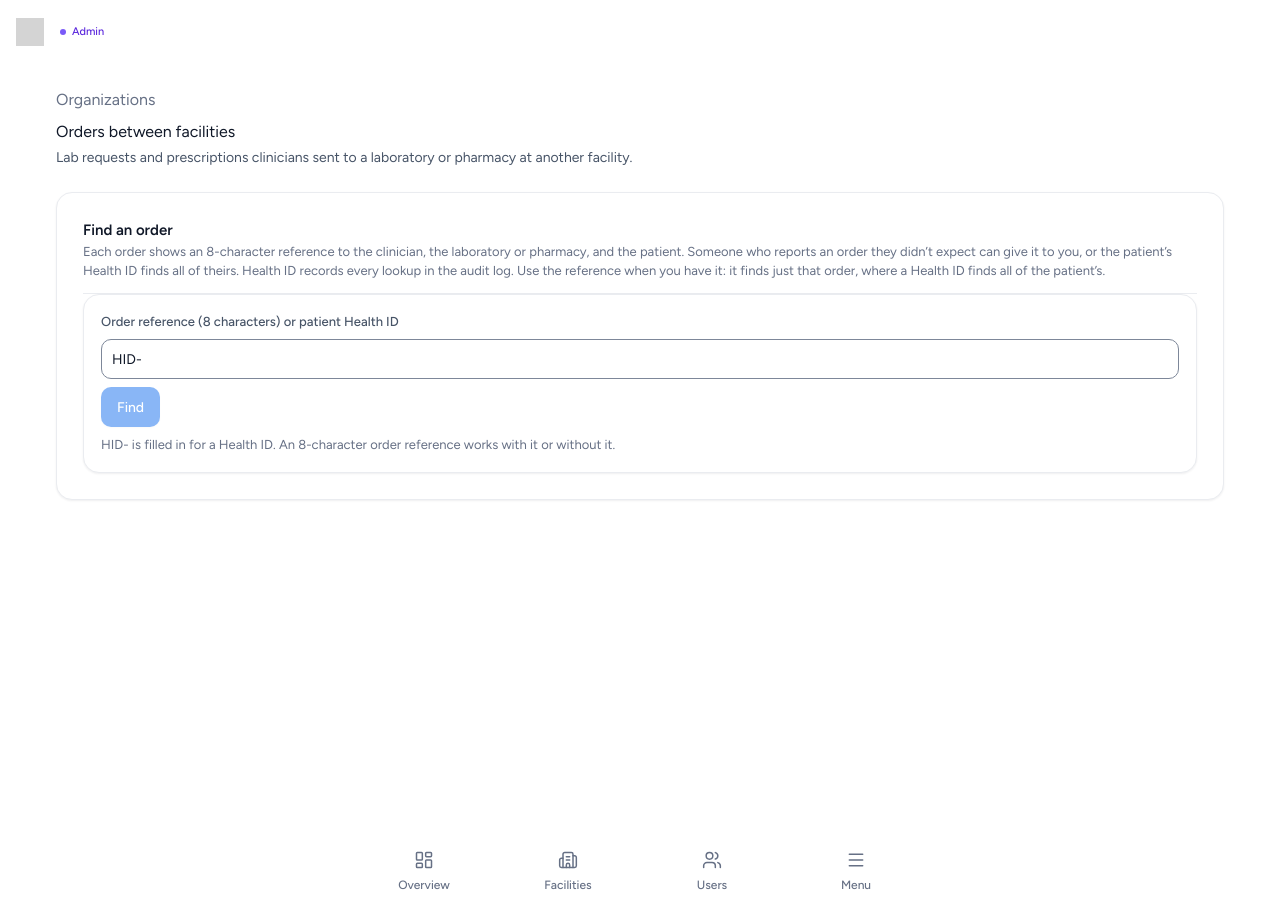
orders between facilities in the Novu console › offers no Close on a completed order whose access has ended: support closed it
Replace the text in the field labelled "Order reference (8 characters) or patient Health ID" with "9C1B2D3E" at (640, 359), box [101, 339, 1179, 379]
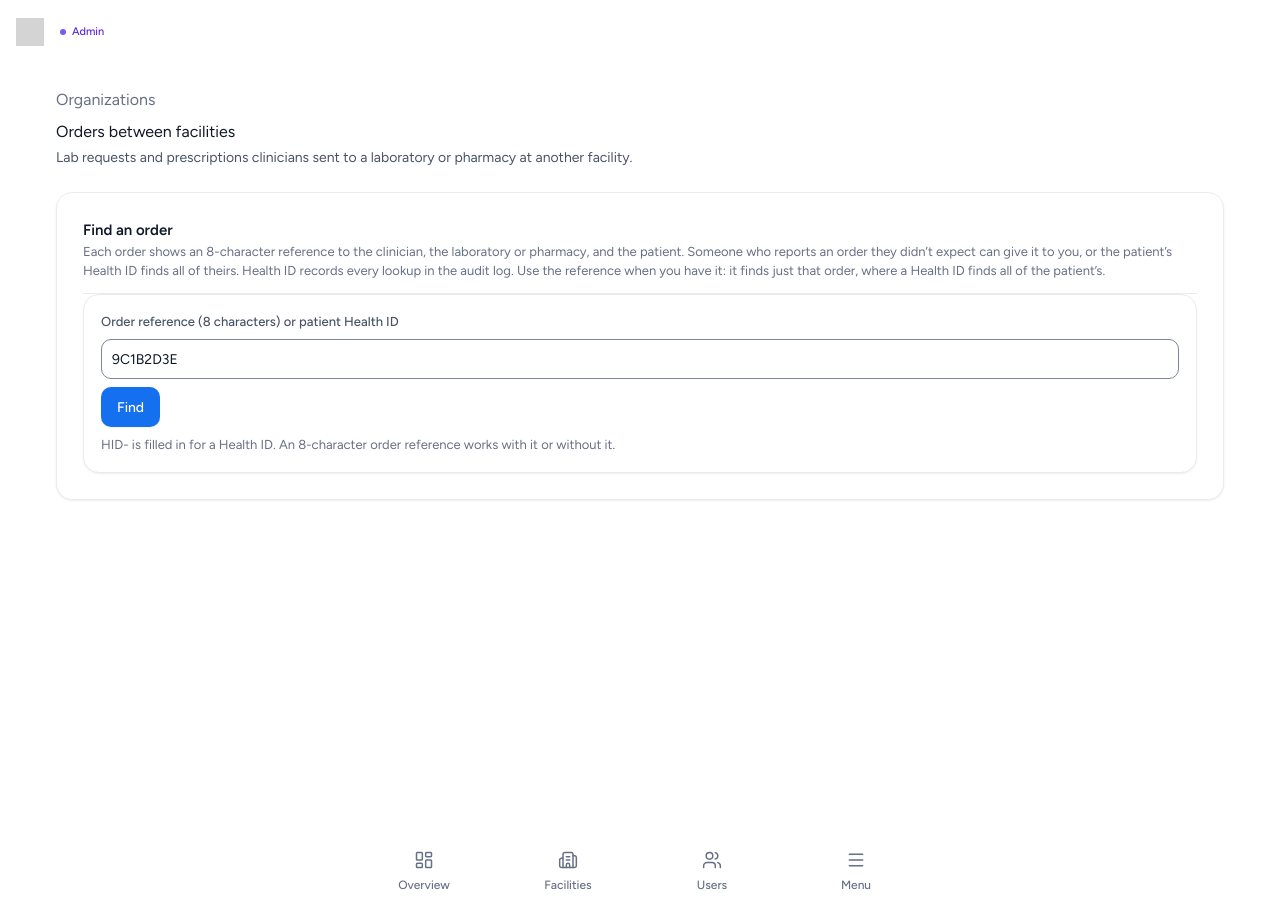
Click the button "Find" at (131, 407), box [101, 387, 160, 427]
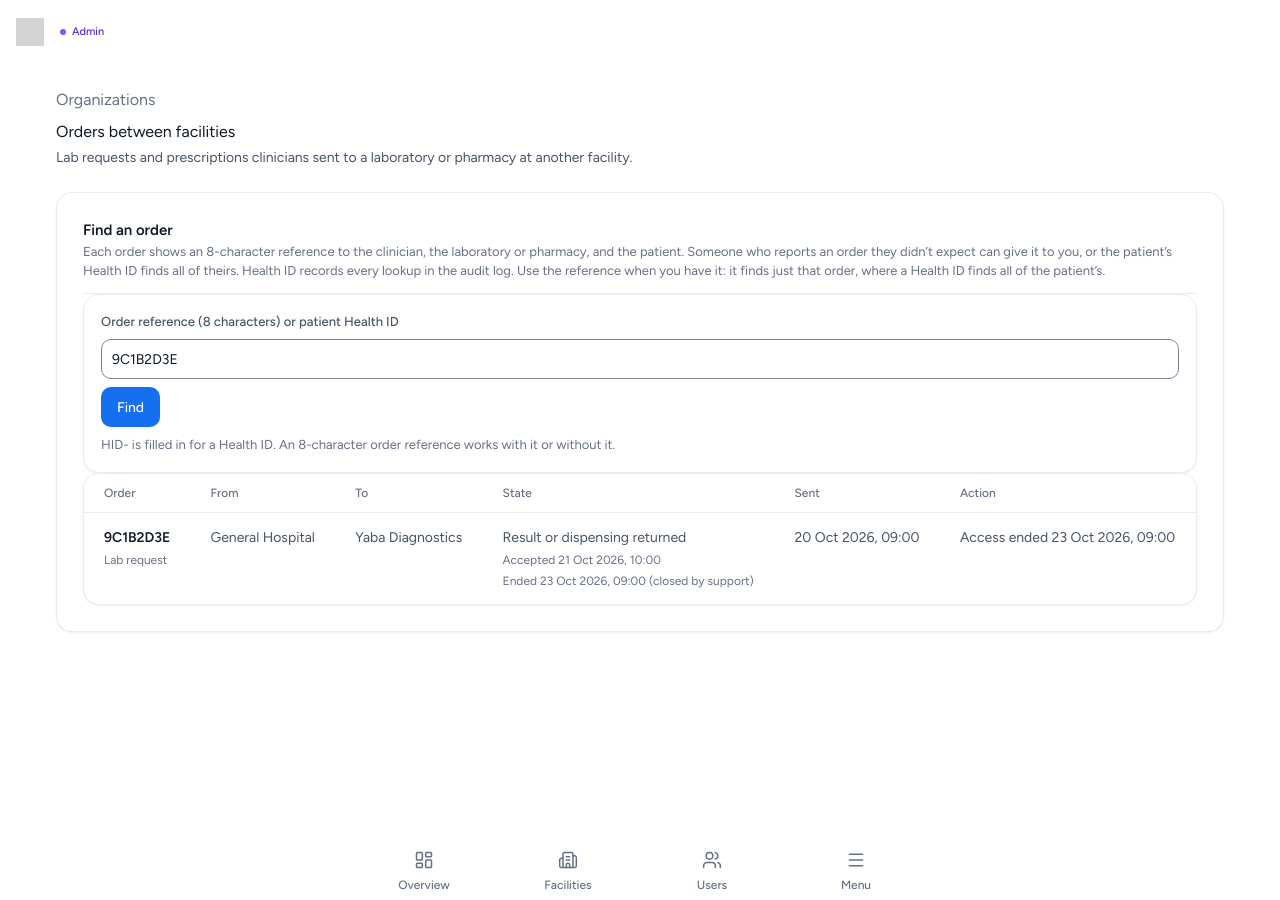
Expected: the text "Result or dispensing returned" is shown, [502, 528, 686, 546]
Expected: the text "Access ended 23 Oct 2026, 09:00" is shown, [940, 512, 1196, 604]
